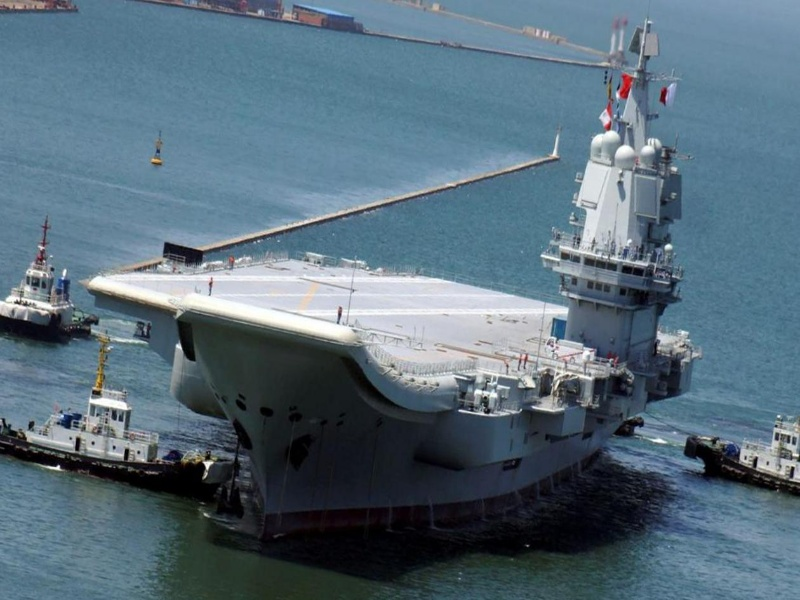boat: (3, 372, 221, 498), (5, 222, 88, 339), (687, 415, 800, 485)
carrier: (135, 70, 684, 543)
